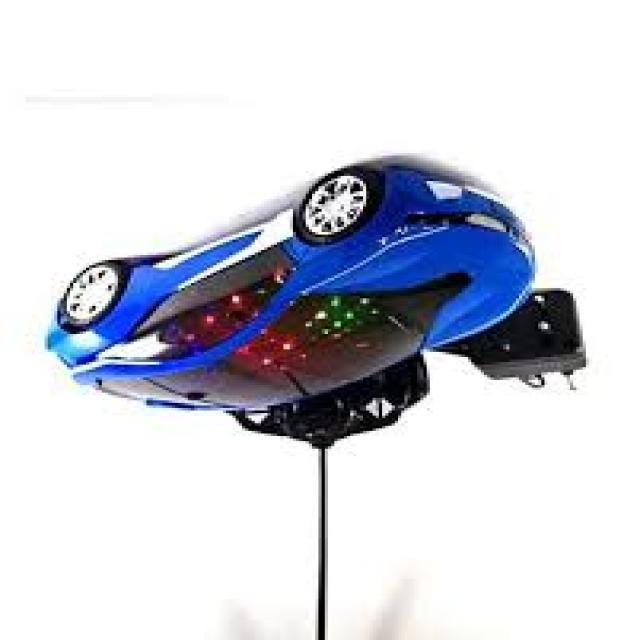Car: (48, 168, 529, 428)
